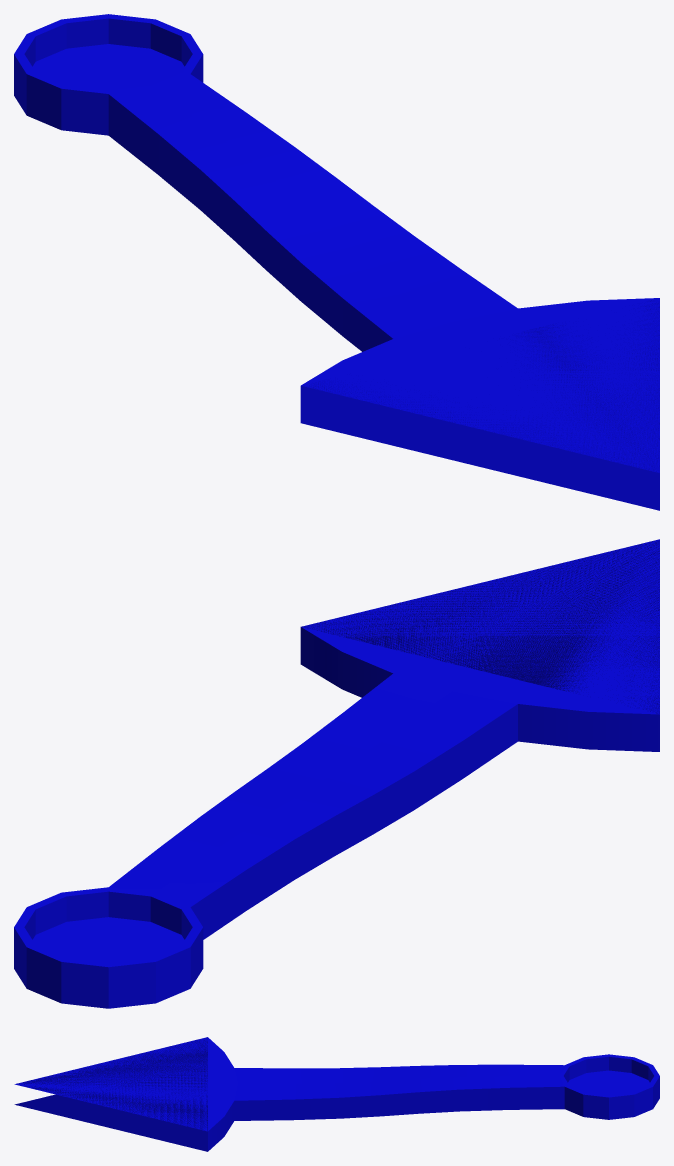
The model's file is body_12.fbx.
3 views of the same model, one above another, from view 1: azimuth 30°, elevation 25°; view 2: azimuth 150°, elevation 25°; view 3: azimuth 270°, elevation 25° (orthographic). The views are drawn at different scales.
Parts seen in each view (by area): view 1: pCylinder152; view 2: pCylinder152; view 3: pCylinder152.
Boxes of the visible parts, x1,y1,x2,y2 form: pCylinder152: [14, 14, 659, 510]; pCylinder152: [14, 539, 659, 1008]; pCylinder152: [14, 1037, 659, 1151].
Size of the model in its own units: 4.12 by 0.5824 by 11.89.
